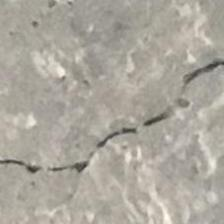Crack: (0, 47, 224, 197)
